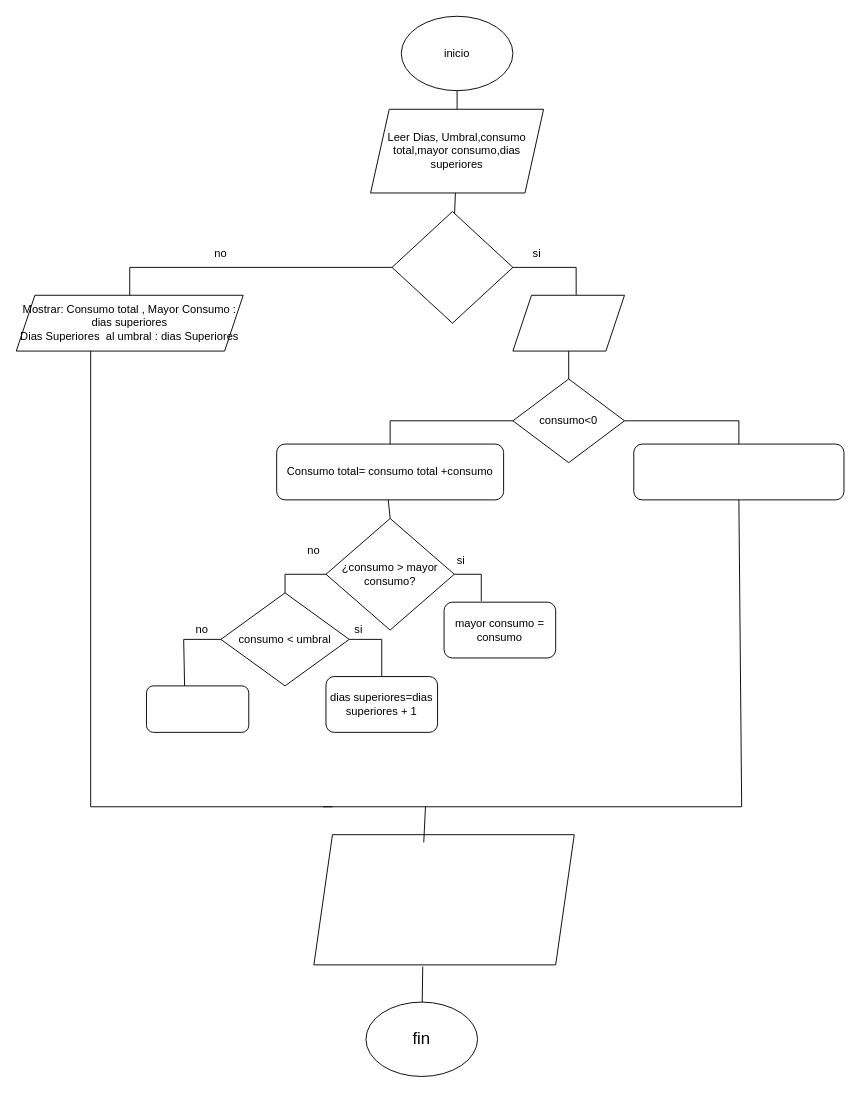
Image size: 860x1093. Some labels were removed from this diagram. Here are the shapes that lost their labels. From the top down, the centre of each, then its label:
At point (452, 267): "¿Dia < Dias?".
At point (568, 322): "Leer consumo del dia a dia".
At point (738, 471): "error el consumo no puede ser negativo".
At point (197, 708): "dia = dias +1".
At point (443, 899): "promedio = consumo_total / DIAS Promedio: promedio".
